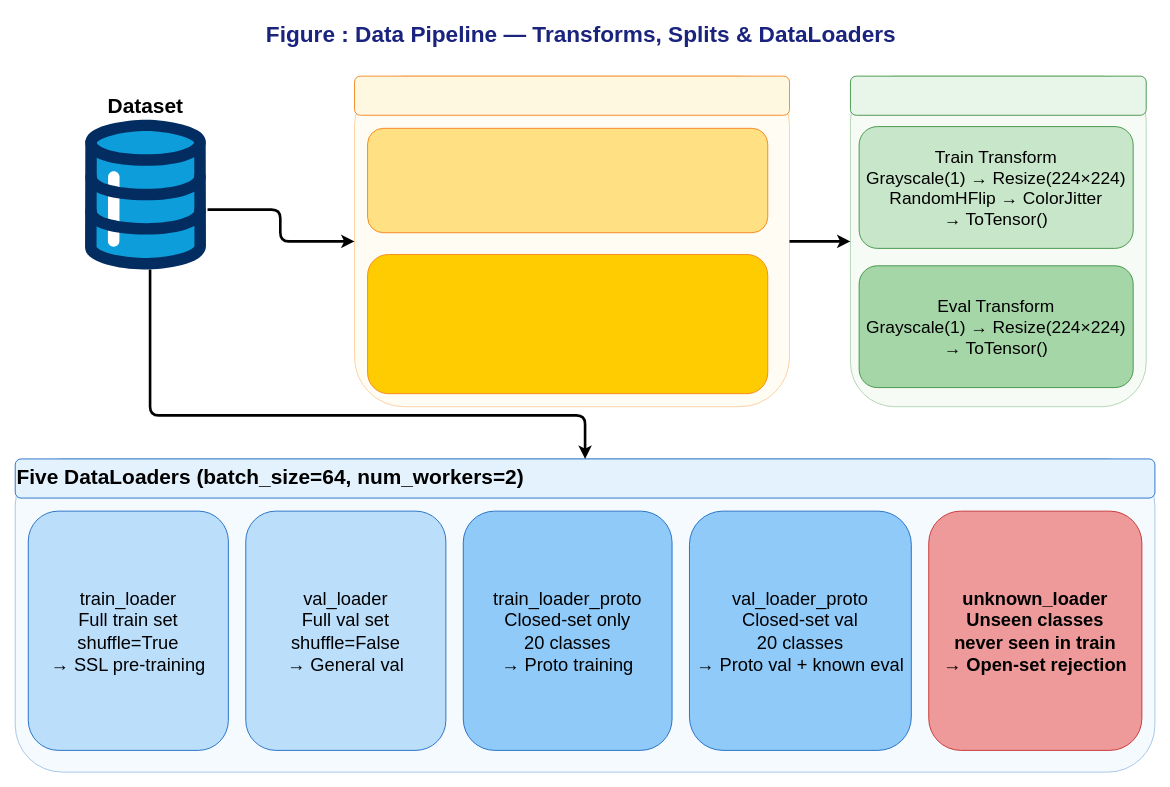
Some shapes in this 1170 by 787 pixel diagram are drawn without their labels. Here are the shapes that lost their labels. From the top down, the centre of each, then its label:
At (x=572, y=95): "Open-Set Split".
At (x=998, y=95): "Transforms".
At (x=567, y=180): "Closed-Set (Known) First 20 classes train_class_ids = range(20)".
At (x=567, y=324): "Open-Set (Unseen) Remaining 5 classes unseen_class_ids".
